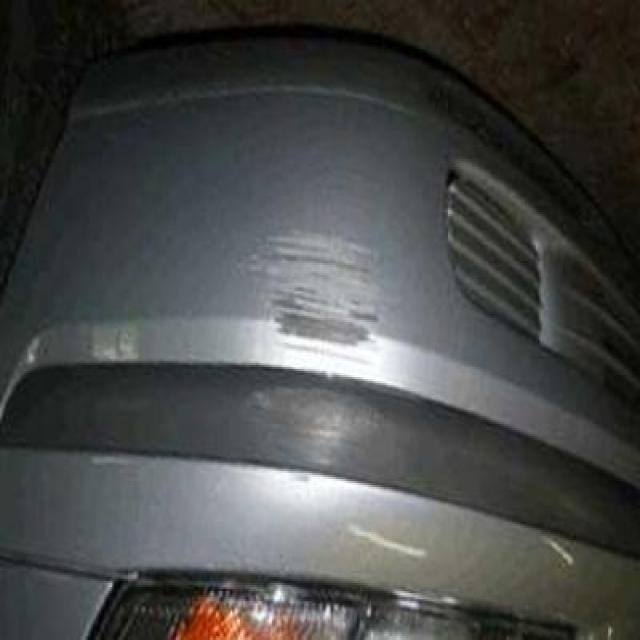scratch: (242, 218, 391, 342), (248, 366, 378, 474)
